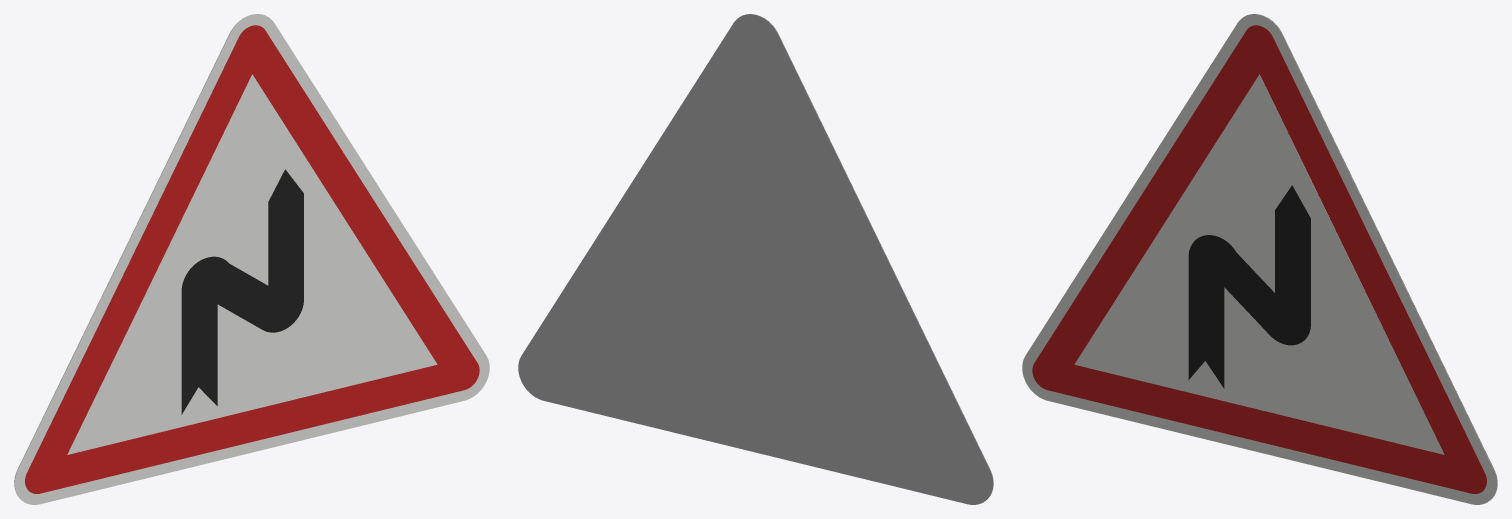
3 views of the same model, side by side, from view 1: azimuth 30°, elevation 25°; view 2: azimuth 150°, elevation 25°; view 3: azimuth 330°, elevation 25° (orthographic).
Visible parts, largest first — view 1: A1c_p02, A1c_p01, A1c_p00, A1c_p03, A1c_dos; view 2: A1c_dos, A1c_p00; view 3: A1c_p02, A1c_p01, A1c_p00, A1c_p03, A1c_dos.
Boxes of the visible parts, x1,y1,x2,y2 form: A1c_p02: (67, 74, 437, 454); A1c_p01: (25, 25, 479, 493); A1c_p00: (14, 14, 489, 504); A1c_p03: (181, 169, 303, 414); A1c_dos: (14, 14, 265, 500); A1c_dos: (518, 14, 993, 504); A1c_p00: (742, 14, 993, 500); A1c_p02: (1074, 74, 1444, 454); A1c_p01: (1032, 25, 1486, 493); A1c_p00: (1022, 14, 1497, 504); A1c_p03: (1188, 185, 1310, 388); A1c_dos: (1246, 14, 1497, 500).
Size of the model in its own units: 1 by 0.8803 by 0.0031.
